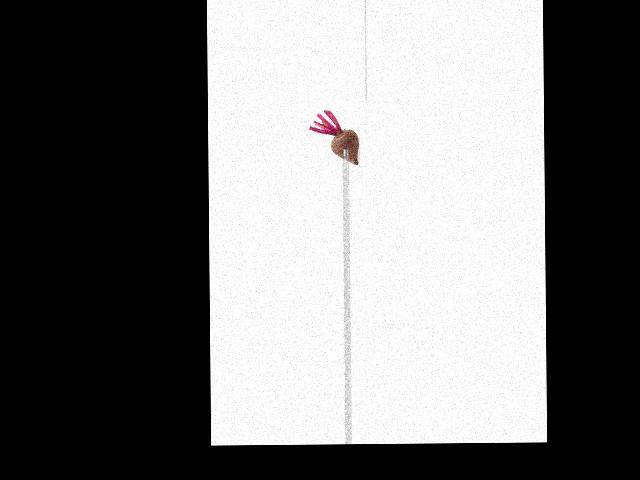beet: (309, 109, 359, 165)
